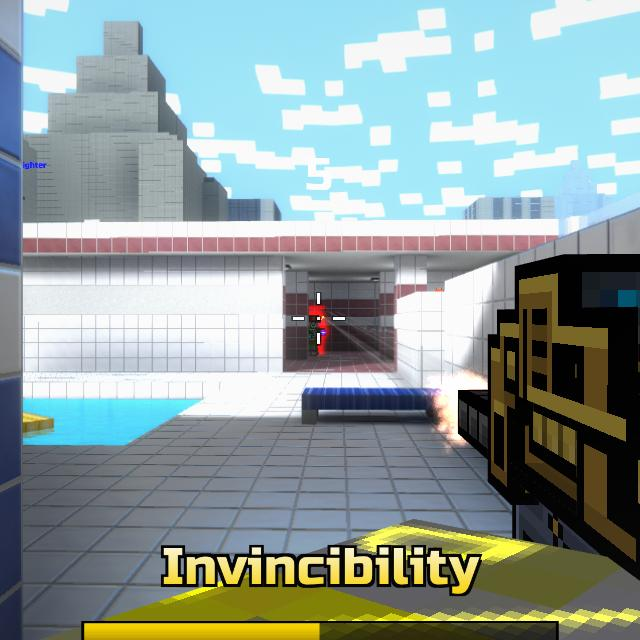Enemy: (308, 315, 325, 356)
